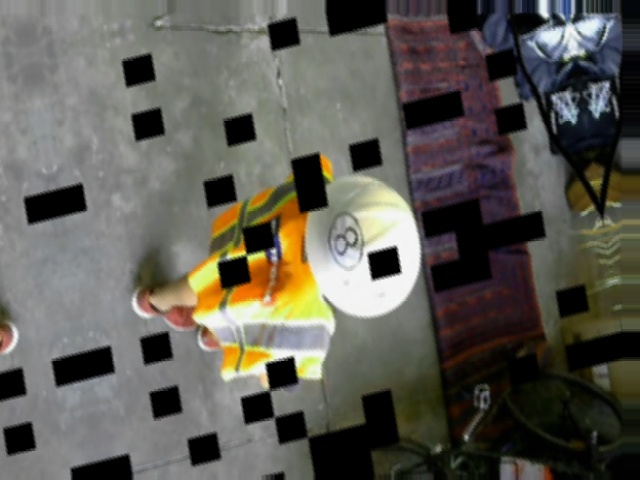eight: (323, 208, 367, 272)
